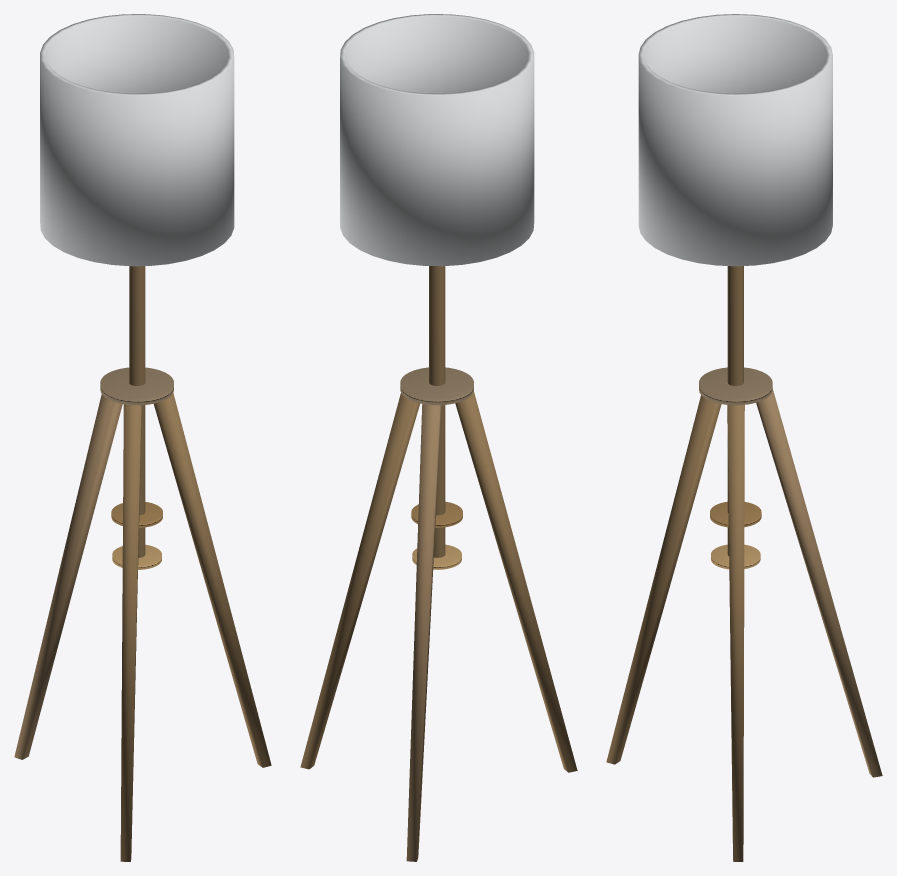
The model's file is lampa.fbx.
3 views of the same model, side by side, from view 1: azimuth 30°, elevation 25°; view 2: azimuth 150°, elevation 25°; view 3: azimuth 270°, elevation 25° (orthographic).
Visible parts, largest first — view 1: Cylinder.004, Cube, Cube.002, Cube.001, Cylinder.001, Cylinder, Cylinder.003, Cylinder.002; view 2: Cylinder.004, Cube, Cube.002, Cube.001, Cylinder.001, Cylinder, Cylinder.003, Cylinder.002; view 3: Cylinder.004, Cube.001, Cube.002, Cube, Cylinder.001, Cylinder, Cylinder.003, Cylinder.002.
Boxes of the visible parts, <box> form: Cylinder.004: <box>40,14,234,266</box>; Cube: <box>14,394,122,759</box>; Cube.002: <box>154,393,271,767</box>; Cube.001: <box>120,404,141,861</box>; Cylinder.001: <box>129,266,145,557</box>; Cylinder: <box>100,367,173,405</box>; Cylinder.003: <box>111,502,162,527</box>; Cylinder.002: <box>112,544,161,569</box>; Cylinder.004: <box>340,14,534,266</box>; Cube: <box>406,404,441,861</box>; Cube.002: <box>300,393,419,769</box>; Cube.001: <box>455,391,577,772</box>; Cylinder.001: <box>429,266,445,557</box>; Cylinder: <box>400,367,473,405</box>; Cylinder.003: <box>411,501,462,527</box>; Cylinder.002: <box>412,544,461,569</box>; Cylinder.004: <box>638,14,832,266</box>; Cube.001: <box>606,395,721,764</box>; Cube.002: <box>727,405,744,861</box>; Cube: <box>756,389,882,777</box>; Cylinder.001: <box>727,266,743,555</box>; Cylinder: <box>699,367,772,405</box>; Cylinder.003: <box>710,501,761,527</box>; Cylinder.002: <box>711,544,760,569</box>.
Size of the model in its own units: 299 by 976 by 330.
